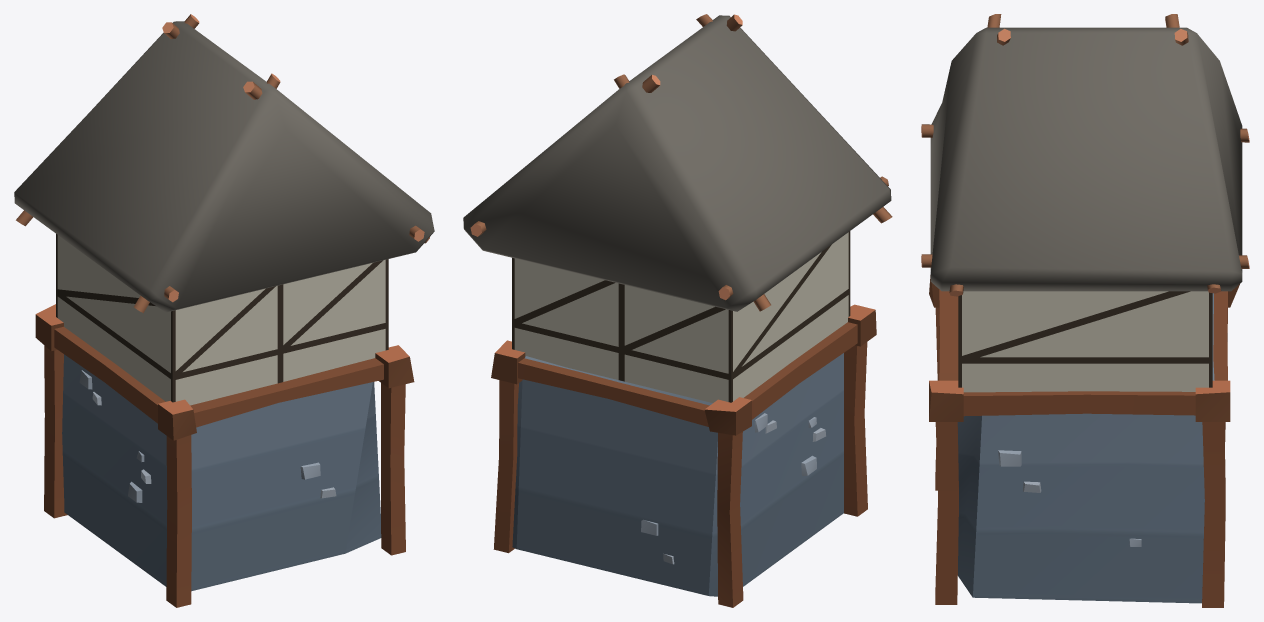
The model's file is house-ver5-small.glb.
3 renders of one model, left to right at view 1: azimuth 30°, elevation 25°; view 2: azimuth 150°, elevation 25°; view 3: azimuth 270°, elevation 25°, orthographic. The views are drawn at different scales.
Visible parts, largest first — view 1: House-ver5-small_Texture-base_0; view 2: House-ver5-small_Texture-base_0; view 3: House-ver5-small_Texture-base_0.
Part boxes in pixels (x1,y1,x2,y2): House-ver5-small_Texture-base_0: [14, 14, 434, 607]; House-ver5-small_Texture-base_0: [463, 14, 892, 607]; House-ver5-small_Texture-base_0: [921, 14, 1249, 607].
Bounding box in the file's own units: 6.24 × 9.71 × 5.51.
1 material, 1 textured.
